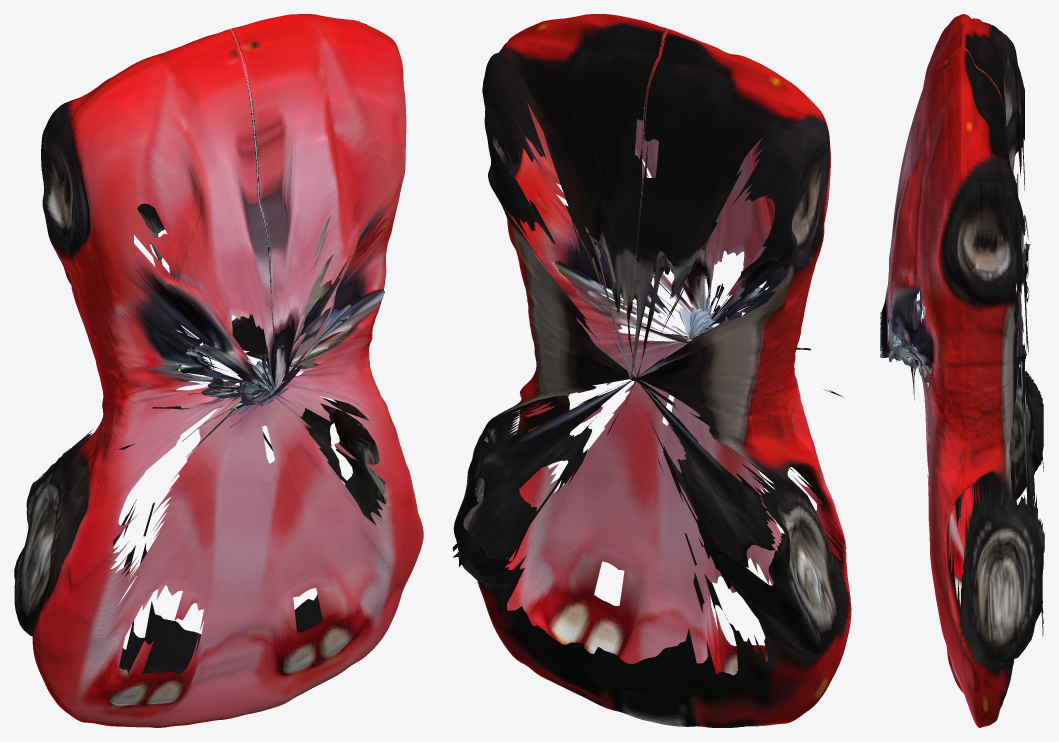
3 views of the same model, side by side, from view 1: azimuth 30°, elevation 25°; view 2: azimuth 150°, elevation 25°; view 3: azimuth 270°, elevation 25° (orthographic). The views are drawn at different scales.
Visible parts, largest first — view 1: geometry_0; view 2: geometry_0; view 3: geometry_0.
Part boxes in pixels (x1,y1,x2,y2): geometry_0: (14, 14, 423, 727); geometry_0: (452, 14, 851, 727); geometry_0: (880, 14, 1044, 727).
Size of the model in its own units: 1.09 by 1.89 by 0.4374.
Materials: 1 (1 with a texture image).
